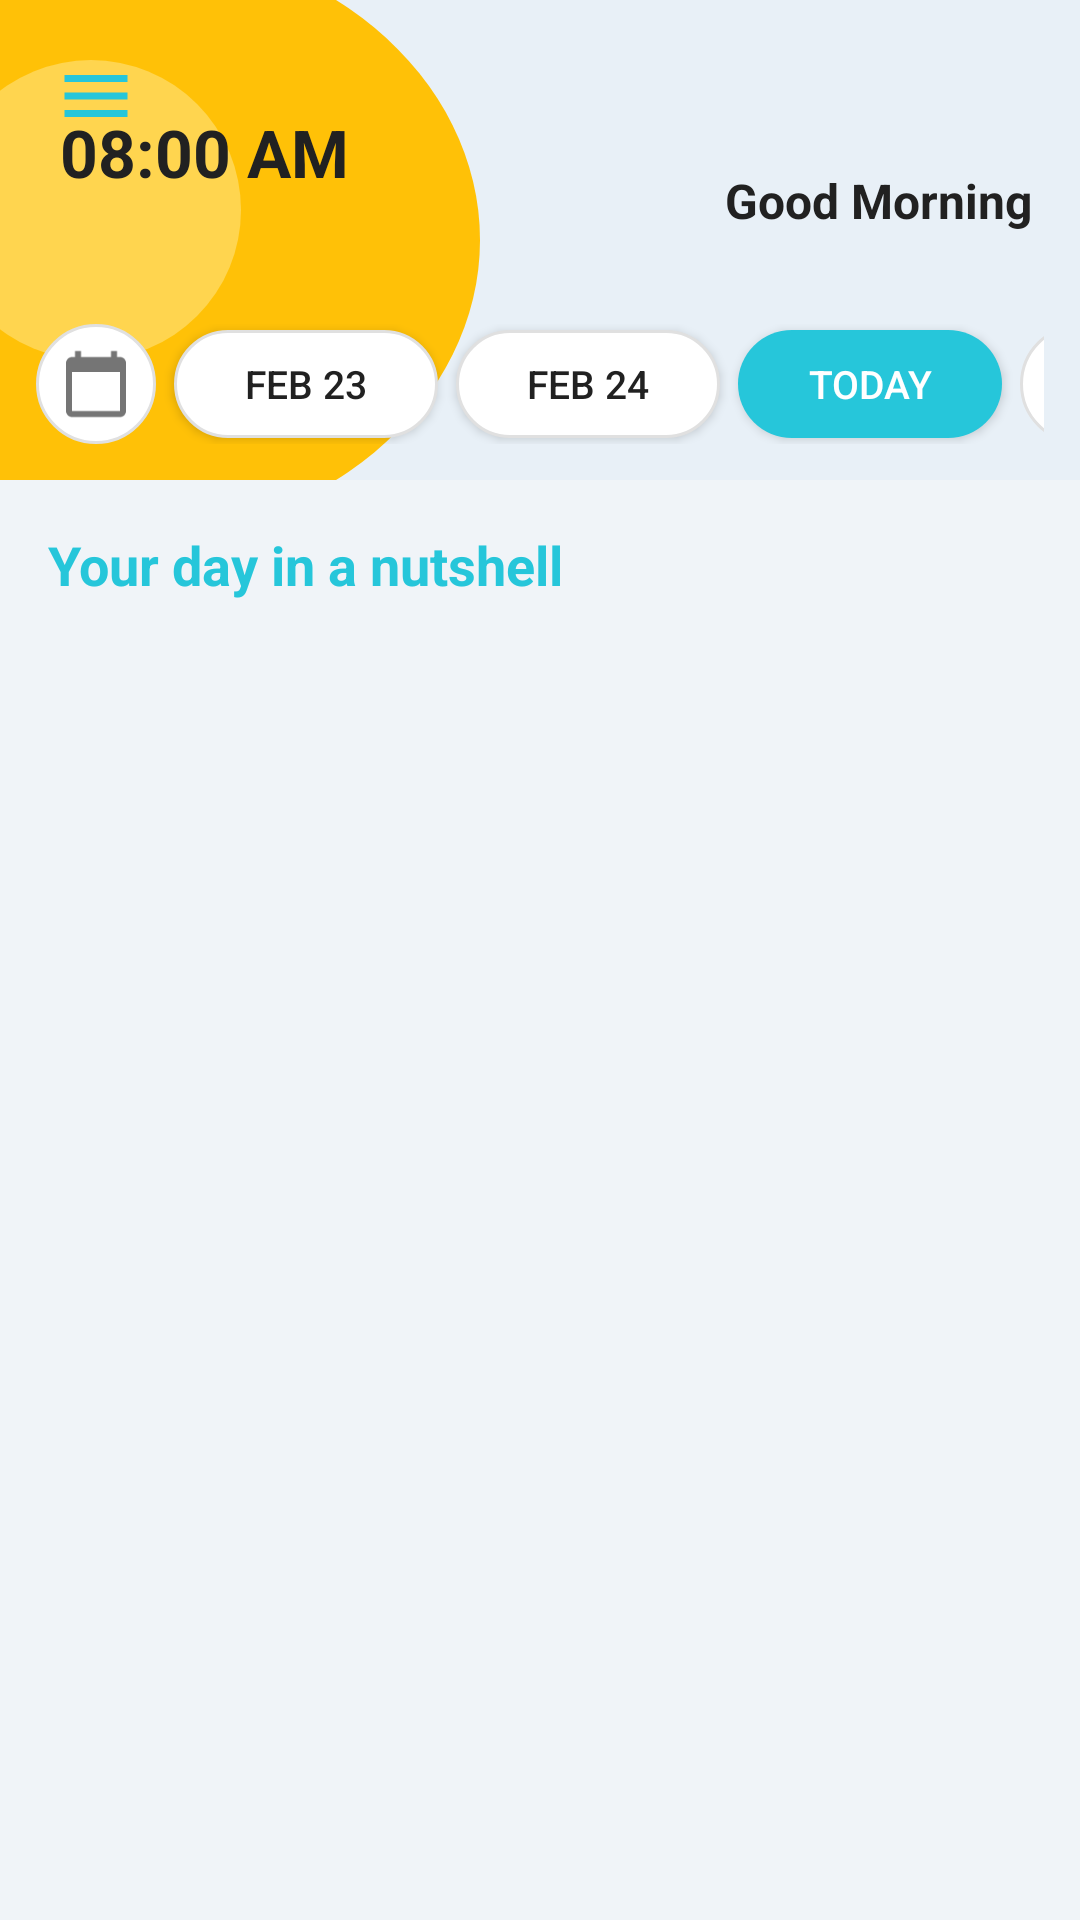

Where icons sit on this 1080x1920 app screen, as (x1, y1, x2, y2):
calendar: (36, 324, 156, 444)
